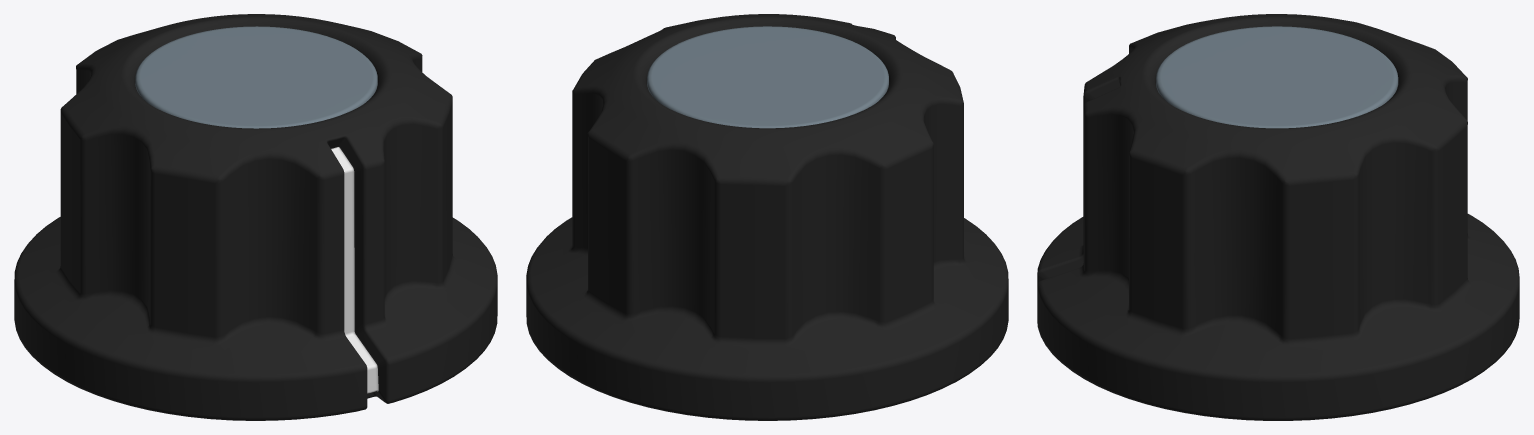
3 renders of one model, left to right at view 1: azimuth 30°, elevation 25°; view 2: azimuth 150°, elevation 25°; view 3: azimuth 270°, elevation 25°, orthographic.
Parts seen in each view (by area): view 1: knob_mesh, cap_mesh; view 2: knob_mesh, cap_mesh; view 3: knob_mesh, cap_mesh.
Boxes of the visible parts, box(x1,y1,x2,y2) form: knob_mesh: box(14, 14, 497, 420); cap_mesh: box(135, 26, 377, 128); knob_mesh: box(526, 14, 1008, 420); cap_mesh: box(647, 26, 888, 128); knob_mesh: box(1037, 14, 1519, 420); cap_mesh: box(1156, 26, 1398, 128).
Bounding box in the file's own units: 5.95 × 3.36 × 5.95.
